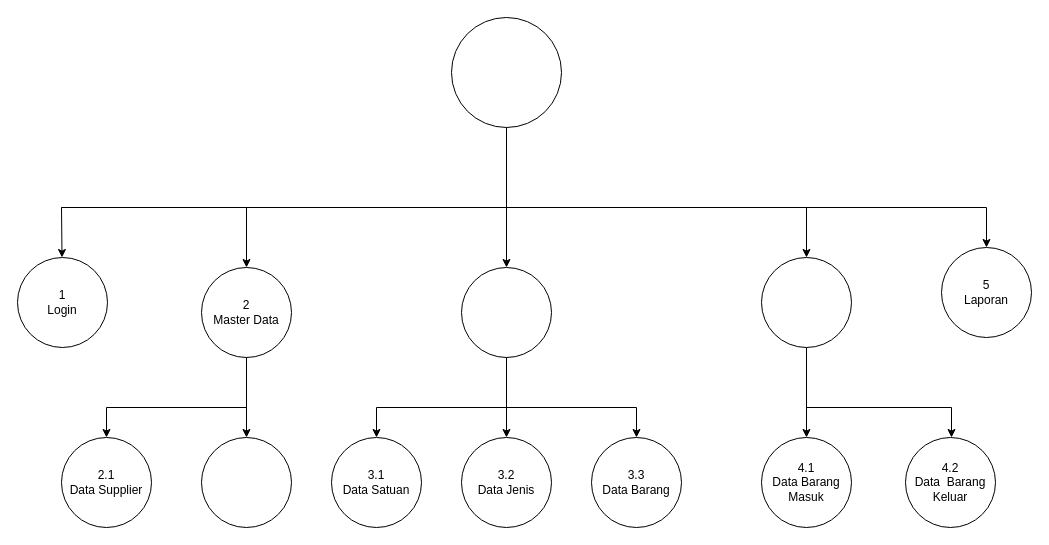
Image size: 1049x545. Some labels were removed from this diagram. Each missing label, with the centre of its shape:
0 Sistem Informasi Persediaan Barang Berbasis Web: the point at 506,72
2.1 Data User: the point at 246,482
3 Master Barang: the point at 506,312
4 Transaksi: the point at 806,302
